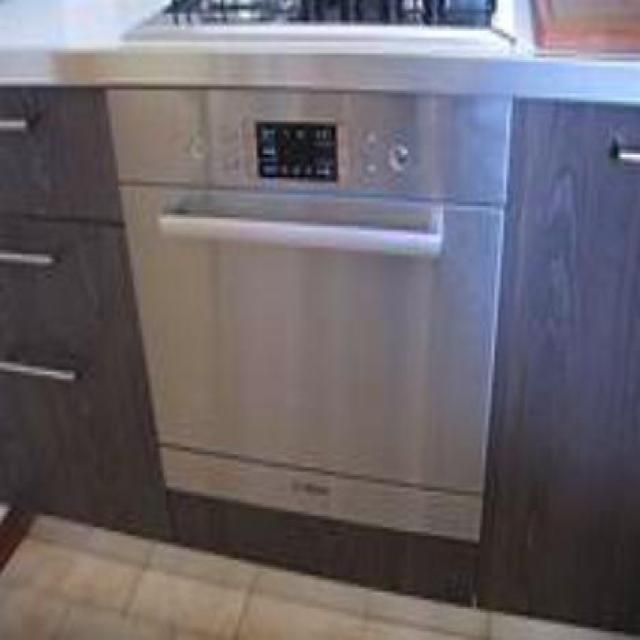dishwasher: (106, 86, 512, 547)
